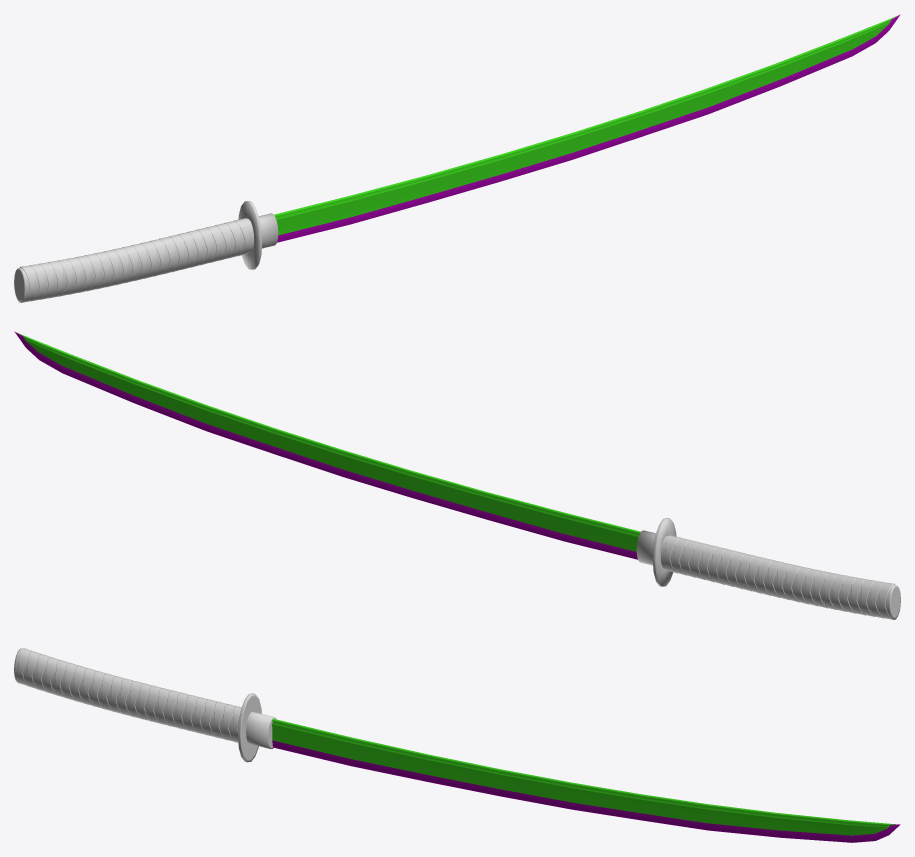
File: Katana.fbx
3 views of the same model, one above another, from view 1: azimuth 30°, elevation 25°; view 2: azimuth 150°, elevation 25°; view 3: azimuth 330°, elevation 25° (orthographic).
Visible parts, largest first — view 1: BezierCurve, BezierCurve.005, BezierCurve.003, BezierCurve.002; view 2: BezierCurve, BezierCurve.005, BezierCurve.003, BezierCurve.002; view 3: BezierCurve, BezierCurve.005, BezierCurve.003, BezierCurve.002, BezierCurve.001.
Part boxes in pixels (x1,y1,x2,y2): BezierCurve: (274, 14, 900, 242); BezierCurve.005: (19, 218, 249, 302); BezierCurve.003: (14, 219, 253, 302); BezierCurve.002: (238, 201, 262, 269); BezierCurve: (14, 331, 640, 559); BezierCurve.005: (665, 535, 895, 619); BezierCurve.003: (661, 536, 900, 619); BezierCurve.002: (652, 518, 676, 586); BezierCurve: (272, 718, 900, 842); BezierCurve.005: (17, 648, 241, 742); BezierCurve.003: (14, 648, 238, 739); BezierCurve.002: (238, 693, 261, 762); BezierCurve.001: (246, 712, 276, 748).
Size of the model in its own units: 416 by 43.34 by 17.83.
